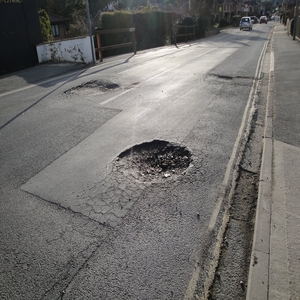pothole: (113, 139, 195, 186)
